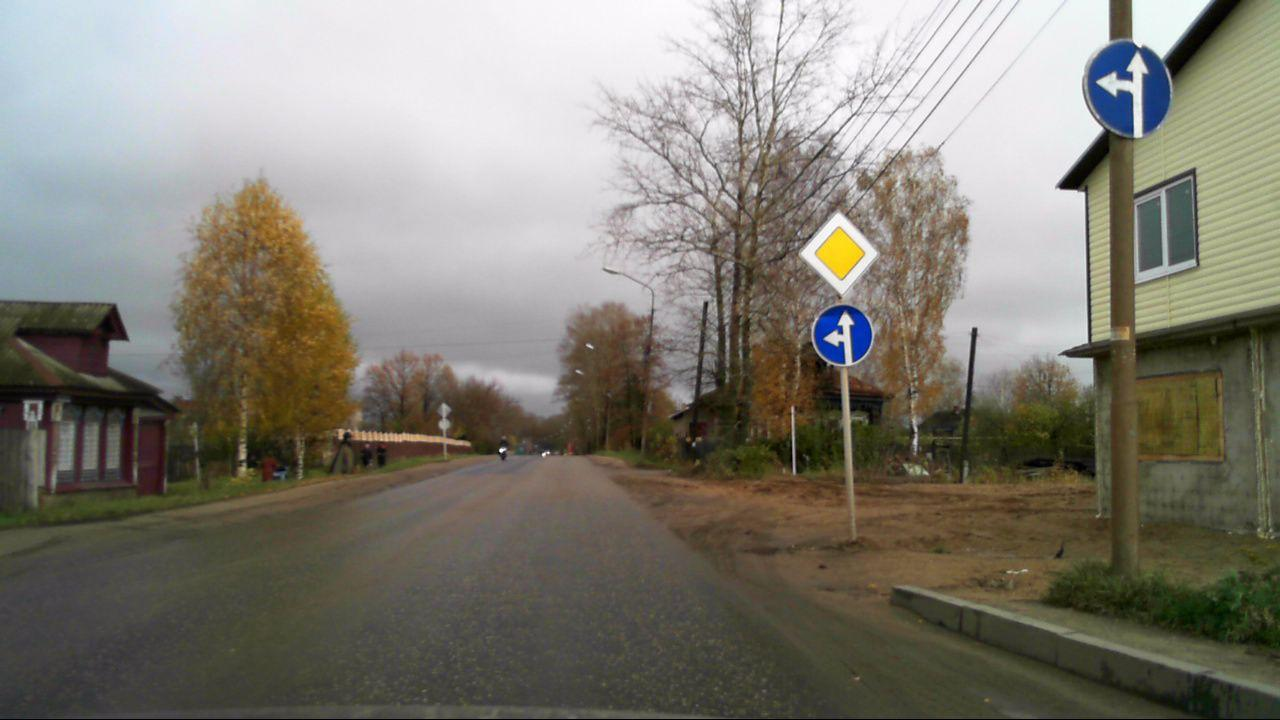2_1: (791, 207, 889, 293)
4_1_5: (1074, 33, 1180, 144), (810, 303, 874, 366)
